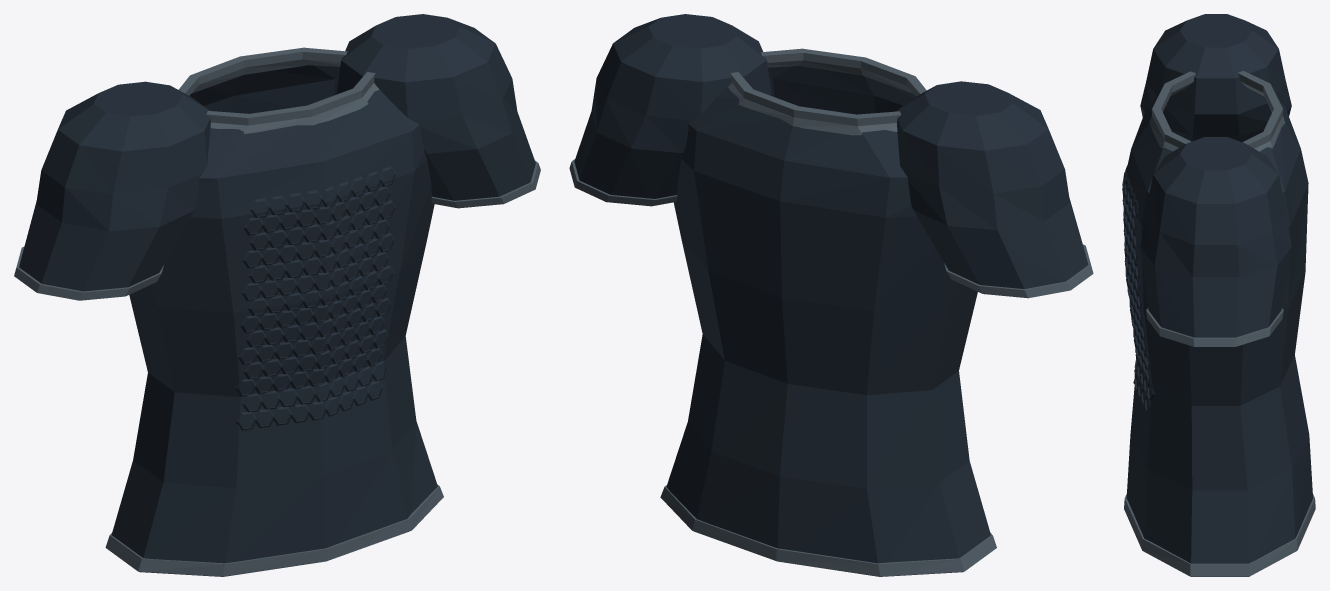
File: ring_chest-male.glb
The picture shows the model from 3 angles, left to right: view 1: azimuth 30°, elevation 25°; view 2: azimuth 150°, elevation 25°; view 3: azimuth 270°, elevation 25°; orthographic projection. The views are drawn at different scales.
Visible parts, largest first — view 1: ring tunic torso, ring upper sleeve -1, ring upper sleeve 1, ring woven coverage on ring tunic torso, Fitted tunic neckline, Bound tunic hem, Sleeve cuff binding -1, Sleeve cuff binding 1; view 2: ring tunic torso, ring upper sleeve -1, ring upper sleeve 1, Fitted tunic neckline, Bound tunic hem, Sleeve cuff binding -1, Sleeve cuff binding 1; view 3: ring tunic torso, ring upper sleeve 1, ring upper sleeve -1, ring woven coverage on ring tunic torso, Fitted tunic neckline, Bound tunic hem, Sleeve cuff binding 1.
Boxes of the visible parts, bbox=[...] form: ring tunic torso: bbox=[111, 65, 437, 576]; ring upper sleeve -1: bbox=[19, 81, 210, 291]; ring upper sleeve 1: bbox=[336, 14, 535, 200]; ring woven coverage on ring tunic torso: bbox=[234, 166, 395, 430]; Fitted tunic neckline: bbox=[178, 47, 379, 133]; Bound tunic hem: bbox=[105, 484, 443, 576]; Sleeve cuff binding -1: bbox=[14, 247, 163, 300]; Sleeve cuff binding 1: bbox=[431, 160, 540, 208]; ring tunic torso: bbox=[666, 66, 990, 576]; ring upper sleeve -1: bbox=[896, 81, 1088, 288]; ring upper sleeve 1: bbox=[574, 14, 771, 198]; Fitted tunic neckline: bbox=[728, 48, 926, 135]; Bound tunic hem: bbox=[660, 485, 996, 576]; Sleeve cuff binding -1: bbox=[944, 244, 1093, 298]; Sleeve cuff binding 1: bbox=[569, 159, 677, 206]; ring tunic torso: bbox=[1123, 94, 1312, 576]; ring upper sleeve 1: bbox=[1140, 137, 1291, 337]; ring upper sleeve -1: bbox=[1140, 14, 1291, 142]; ring woven coverage on ring tunic torso: bbox=[1122, 165, 1155, 412]; Fitted tunic neckline: bbox=[1149, 71, 1285, 151]; Bound tunic hem: bbox=[1124, 493, 1315, 576]; Sleeve cuff binding 1: bbox=[1146, 308, 1283, 346].
Size of the model in its own units: 3.49 by 3.04 by 1.28.
